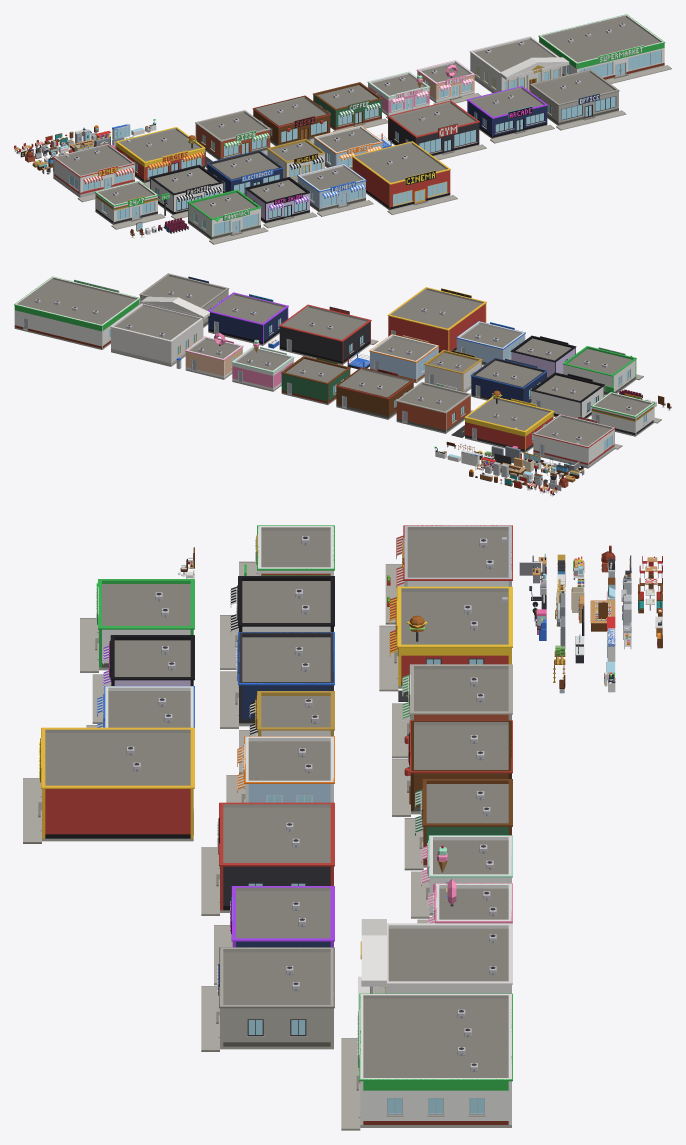
File: Commercial.fbx
3 views of the same model, one above another, from view 1: azimuth 30°, elevation 25°; view 2: azimuth 150°, elevation 25°; view 3: azimuth 270°, elevation 25° (orthographic). The views are drawn at different scales.
Parts seen in each view (by area): view 1: Supermarket_Roof, MovieTheater, Supermarket, GrandBank_Roof, Gym, Office, ArcadeHall, MovieTheater_Roof, Diner, Pharmacy, GrandBank, Laundromat (+38 smaller); view 2: Supermarket, Supermarket_Roof, GrandBank, Gym, GrandBank_Roof, MovieTheater, Diner, BurgerRestaurant, ArcadeHall, MovieTheater_Roof, Pizzeria, SushiBar (+30 smaller); view 3: Supermarket_Roof, MovieTheater, Supermarket, GrandBank_Roof, MovieTheater_Roof, Office, Gym_Roof, Office_Roof, BurgerRestaurant_Roof, Gym, BurgerRestaurant, Diner_Roof (+30 smaller).
Boxes of the visible parts, x1,y1,x2,y2 form: Supermarket_Roof: [543, 17, 659, 62]; MovieTheater: [351, 141, 457, 214]; Supermarket: [538, 14, 671, 83]; GrandBank_Roof: [474, 39, 569, 80]; Gym: [387, 100, 486, 160]; Office: [529, 69, 626, 130]; ArcadeHall: [466, 86, 554, 143]; MovieTheater_Roof: [356, 144, 445, 182]; Diner: [52, 143, 135, 202]; Pharmacy: [187, 189, 268, 244]; GrandBank: [469, 36, 562, 92]; Laundromat: [297, 163, 373, 216]; Supermarket: [14, 276, 140, 349]; Supermarket_Roof: [19, 279, 135, 324]; GrandBank: [110, 303, 203, 366]; Gym: [279, 304, 378, 365]; GrandBank_Roof: [115, 297, 209, 340]; MovieTheater: [387, 287, 486, 352]; Diner: [533, 414, 622, 468]; BurgerRestaurant: [451, 397, 554, 452]; ArcadeHall: [208, 292, 288, 345]; MovieTheater_Roof: [392, 290, 481, 328]; Pizzeria: [396, 382, 472, 433]; SushiBar: [335, 367, 414, 419]; Supermarket_Roof: [363, 998, 508, 1077]; MovieTheater: [23, 727, 194, 843]; Supermarket: [341, 993, 512, 1130]; GrandBank_Roof: [360, 919, 508, 986]; MovieTheater_Roof: [45, 733, 190, 785]; Office: [201, 947, 334, 1051]; Gym_Roof: [223, 807, 330, 862]; Office_Roof: [223, 952, 330, 1004]; BurgerRestaurant_Roof: [401, 592, 508, 644]; Gym: [201, 802, 334, 915]; BurgerRestaurant: [379, 586, 512, 701]; Diner_Roof: [407, 530, 508, 577].
Size of the model in its own units: 425 by 24.2 by 202.
Materials: 1 (1 with a texture image).
